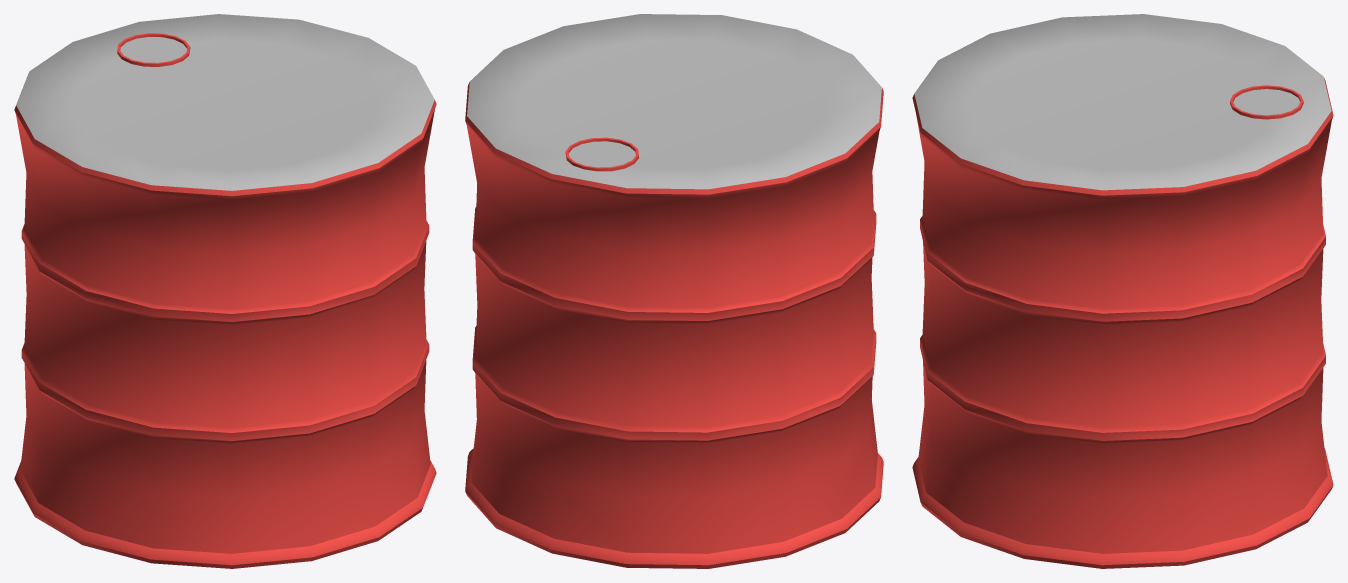
Rendered from Props_OilTank_01.fbx.
3 renders of one model, left to right at view 1: azimuth 30°, elevation 25°; view 2: azimuth 150°, elevation 25°; view 3: azimuth 270°, elevation 25°, orthographic.
Visible parts, largest first — view 1: Props_OilTank_01; view 2: Props_OilTank_01; view 3: Props_OilTank_01.
Boxes of the visible parts, x1,y1,x2,y2 form: Props_OilTank_01: (14, 14, 436, 568); Props_OilTank_01: (465, 14, 883, 568); Props_OilTank_01: (912, 14, 1333, 568).
Bounding box in the file's own units: 200 × 200 × 200.
